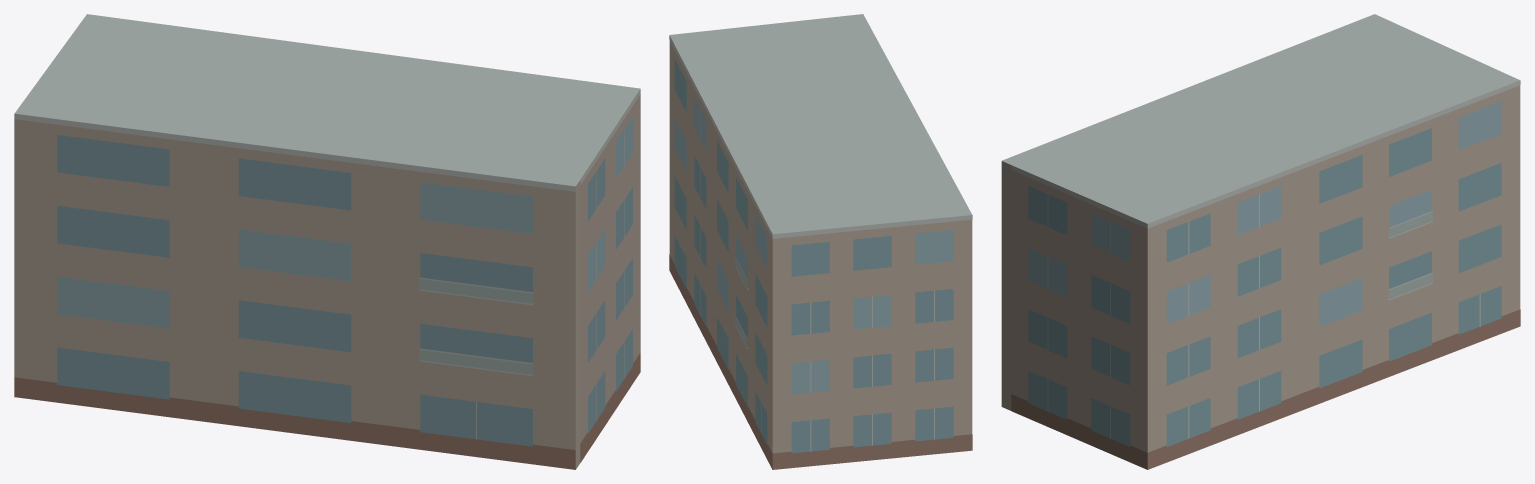
Rendered from survey-upis-32718910.glb.
The picture shows the model from 3 angles, left to right: view 1: azimuth 30°, elevation 25°; view 2: azimuth 150°, elevation 25°; view 3: azimuth 270°, elevation 25°; orthographic projection. The views are drawn at different scales.
Visible parts, largest first — view 1: survey-upis-32718910.tmp; view 2: survey-upis-32718910.tmp; view 3: survey-upis-32718910.tmp.
Boxes of the visible parts, left/top/right/bottom form: survey-upis-32718910.tmp: left=14, top=14, right=640, bottom=469; survey-upis-32718910.tmp: left=669, top=14, right=972, bottom=469; survey-upis-32718910.tmp: left=1001, top=14, right=1520, bottom=469.
Bounding box in the file's own units: 22.87 × 12.5 × 23.9.
